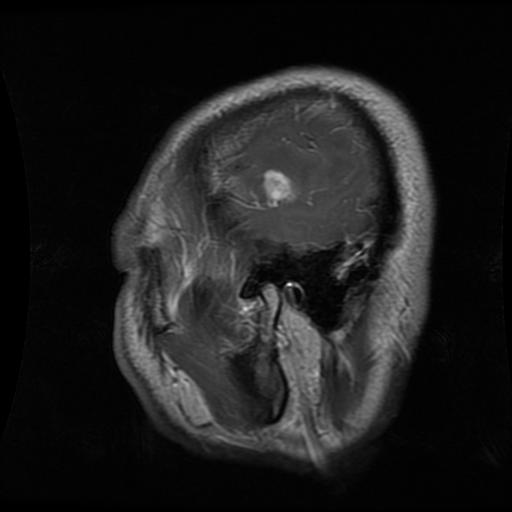Gliomia_tumour: (265, 169, 294, 199)
